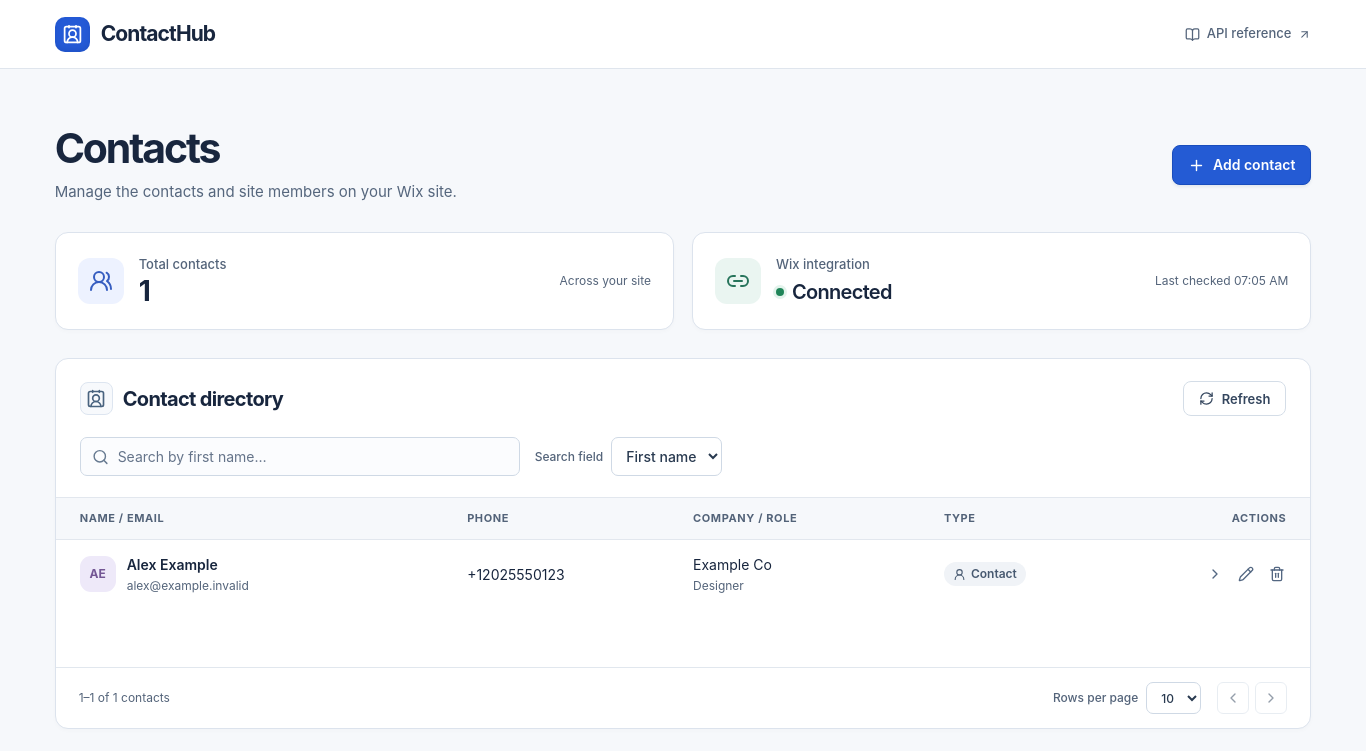
Test: loads latest revision and patches only actual edits, including an explicit clear
The width and height of the screenshot is (1366, 751).
Expected: the text "Connected" is shown, 776,277 -> 892,307
Click the button named "Edit Alex Example · alex@example.invalid · +12025550123" at (1246, 574), box 1230,558 -> 1261,590
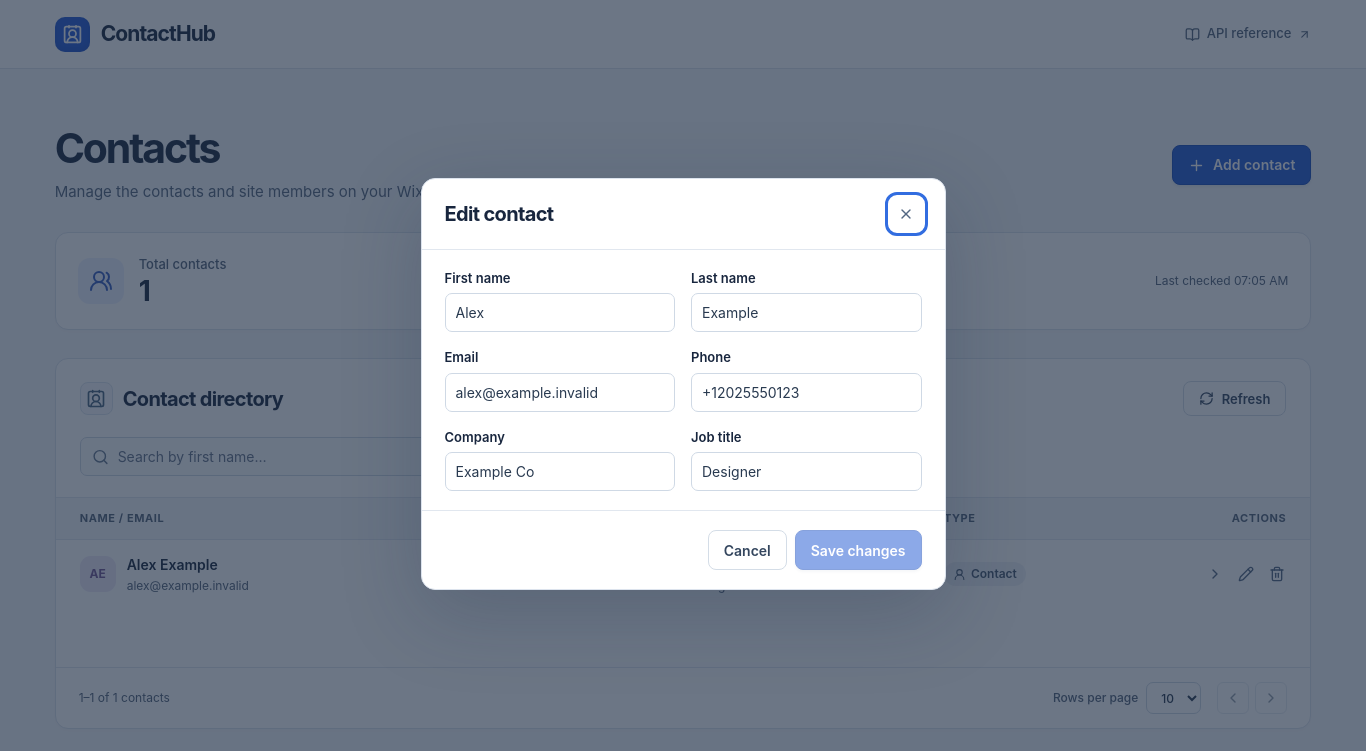
Expected: the field showing "Alex" is shown, 444,293 -> 675,332
Expected: the field showing "+12025550123" is shown, 691,373 -> 922,412
Replace the text in the field labelled "Last name" with "Changed" at (806, 313), box 691,293 -> 922,332
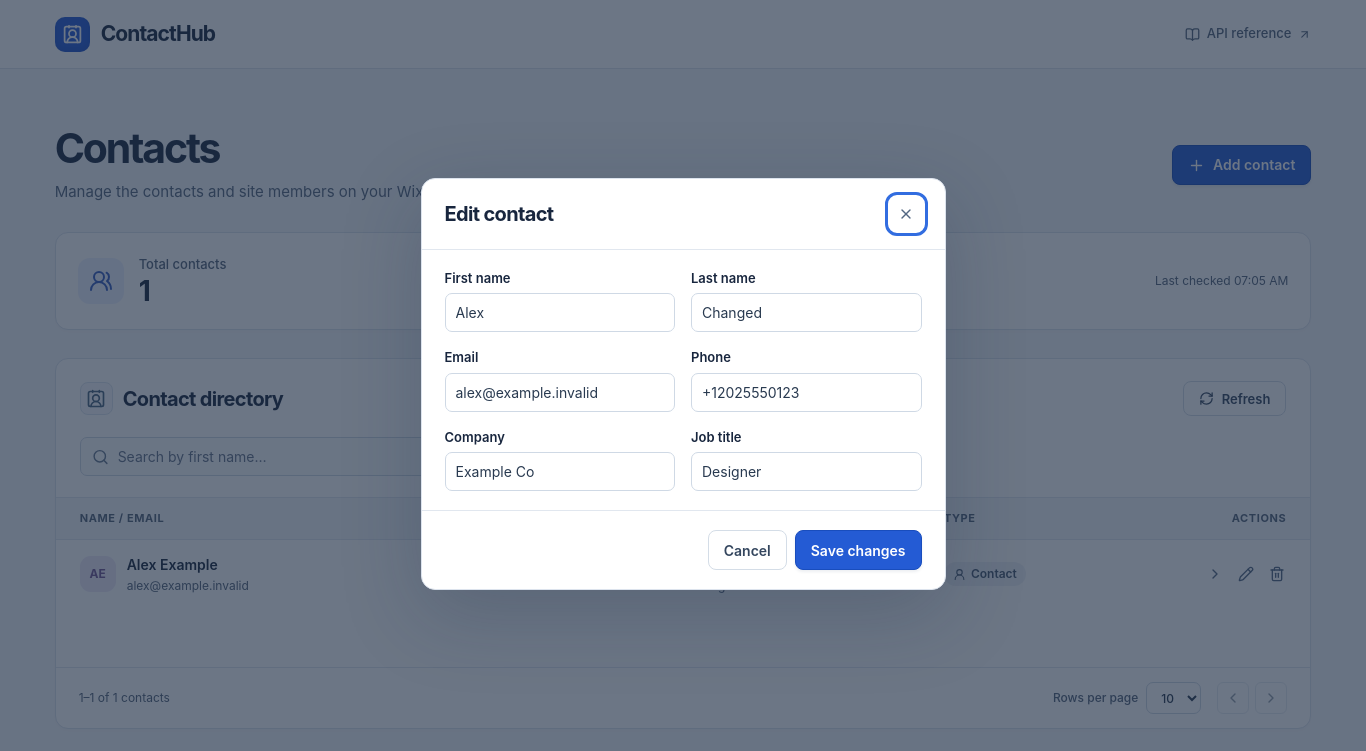
Clear the field labelled "Company" at (560, 472), box 444,452 -> 675,491
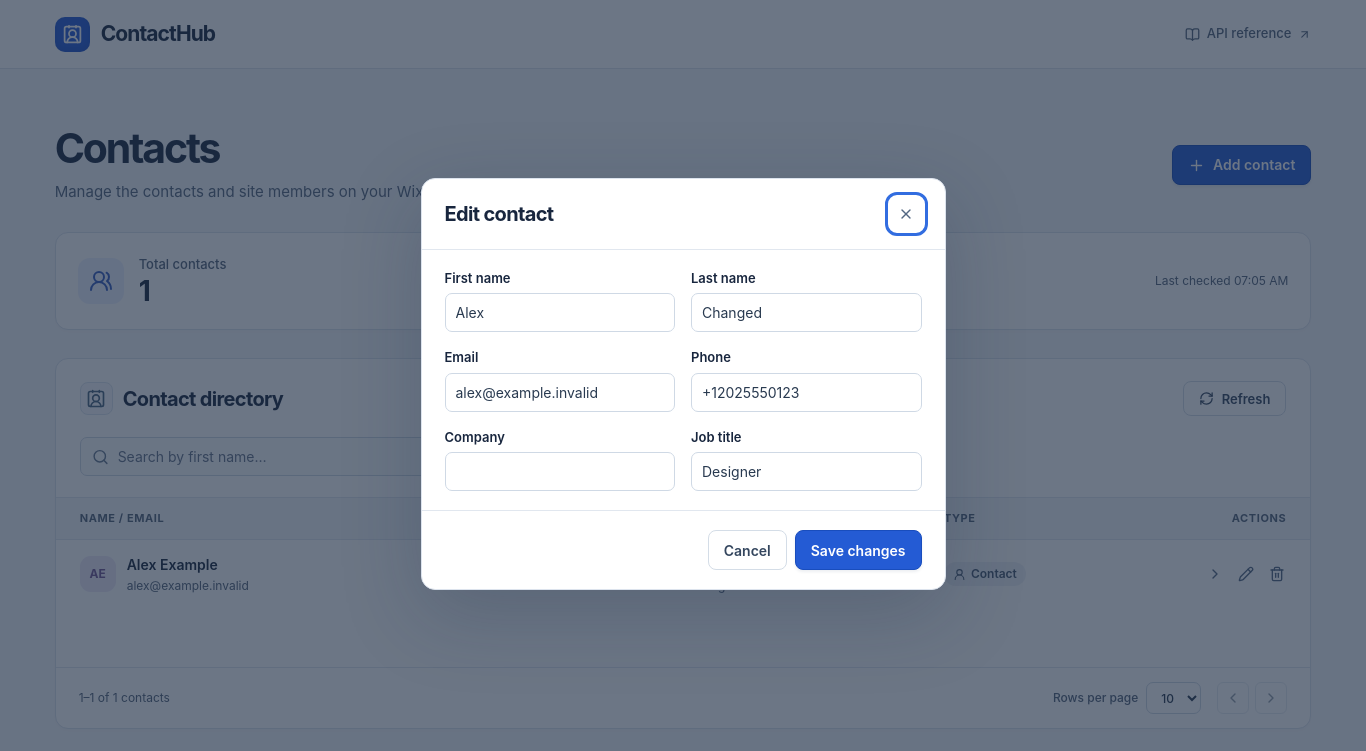
Click the button "Save changes" at (858, 550), box 795,530 -> 922,570
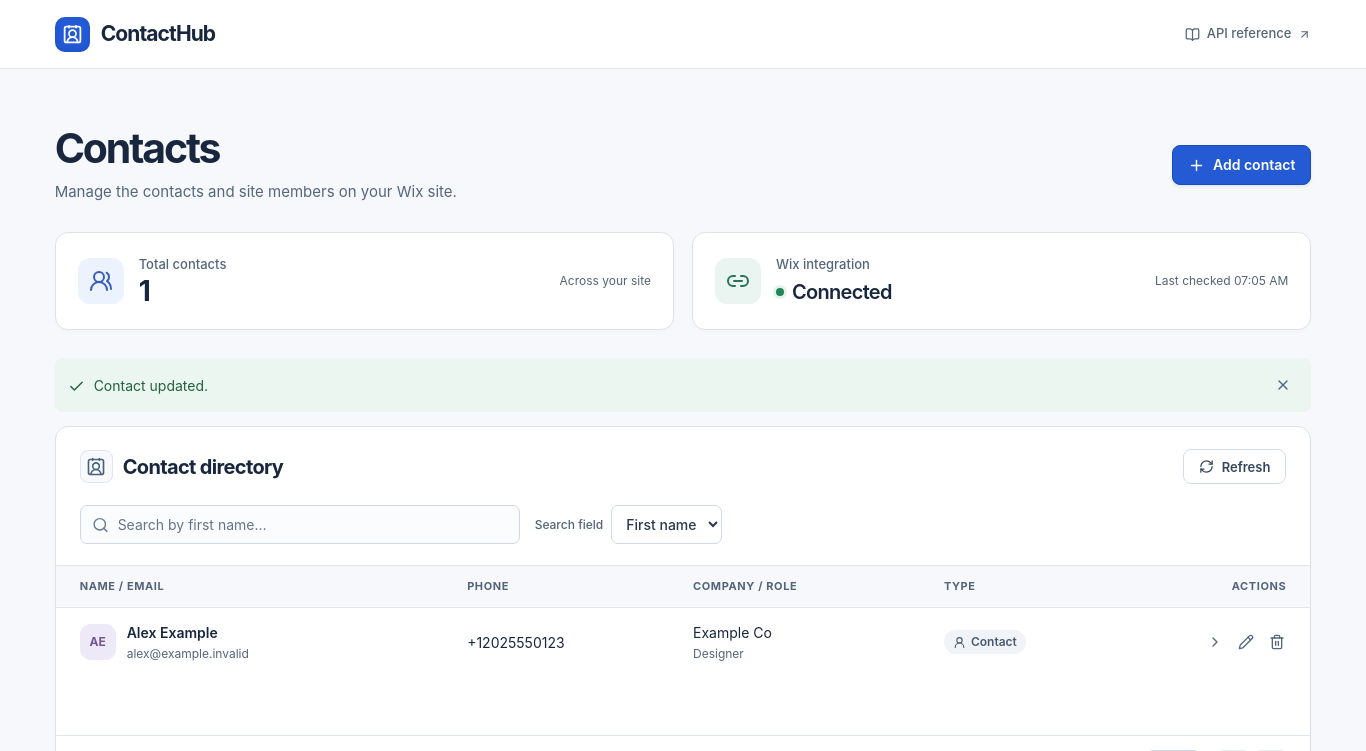
Expected: the text "Contact updated." is shown, 55,358 -> 1311,412
